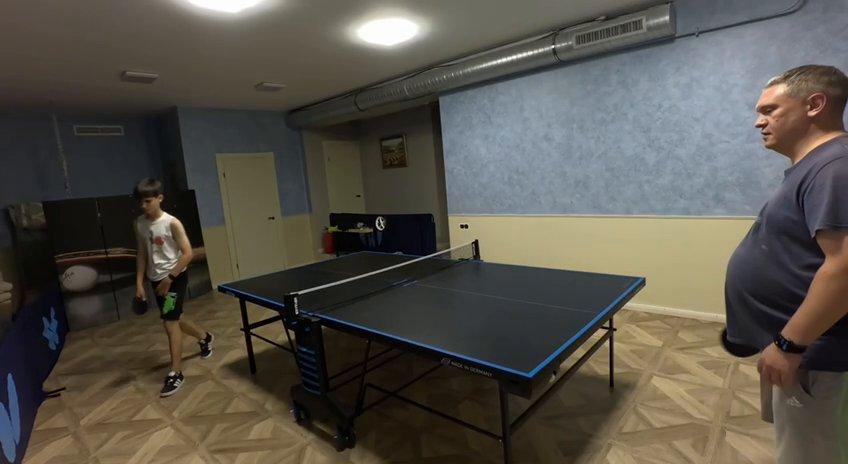Net: (280, 241, 481, 325)
Player1: (134, 178, 211, 376)
Player2: (723, 76, 847, 463)
Table: (220, 250, 640, 376)
